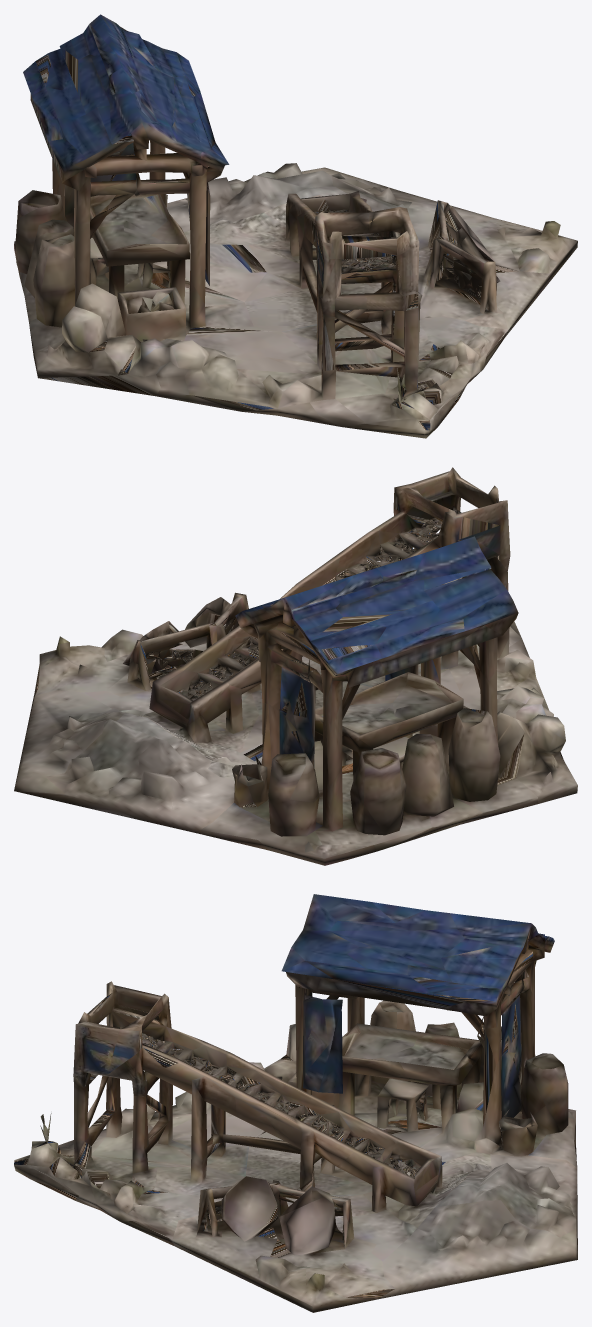
File: gold_panning_0.glb
3 views of the same model, one above another, from view 1: azimuth 30°, elevation 25°; view 2: azimuth 150°, elevation 25°; view 3: azimuth 270°, elevation 25° (orthographic). The views are drawn at different scales.
Parts seen in each view (by area): view 1: tripo_node_7c43517d-db10-4075-b0e3-a94fc40092f9; view 2: tripo_node_7c43517d-db10-4075-b0e3-a94fc40092f9; view 3: tripo_node_7c43517d-db10-4075-b0e3-a94fc40092f9.
Boxes of the visible parts, x1,y1,x2,y2 form: tripo_node_7c43517d-db10-4075-b0e3-a94fc40092f9: [14, 14, 577, 438]; tripo_node_7c43517d-db10-4075-b0e3-a94fc40092f9: [14, 467, 577, 865]; tripo_node_7c43517d-db10-4075-b0e3-a94fc40092f9: [14, 894, 577, 1312].
Bounding box in the file's own units: 0.9791 × 0.4111 × 0.9388.
Materials: 1 (1 with a texture image).
